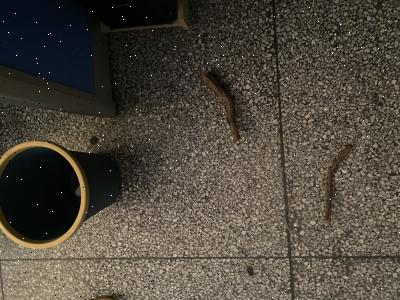Root: (203, 72, 240, 141), (325, 144, 352, 222)
